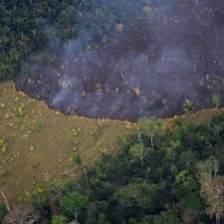incendio: (33, 76, 217, 115)
